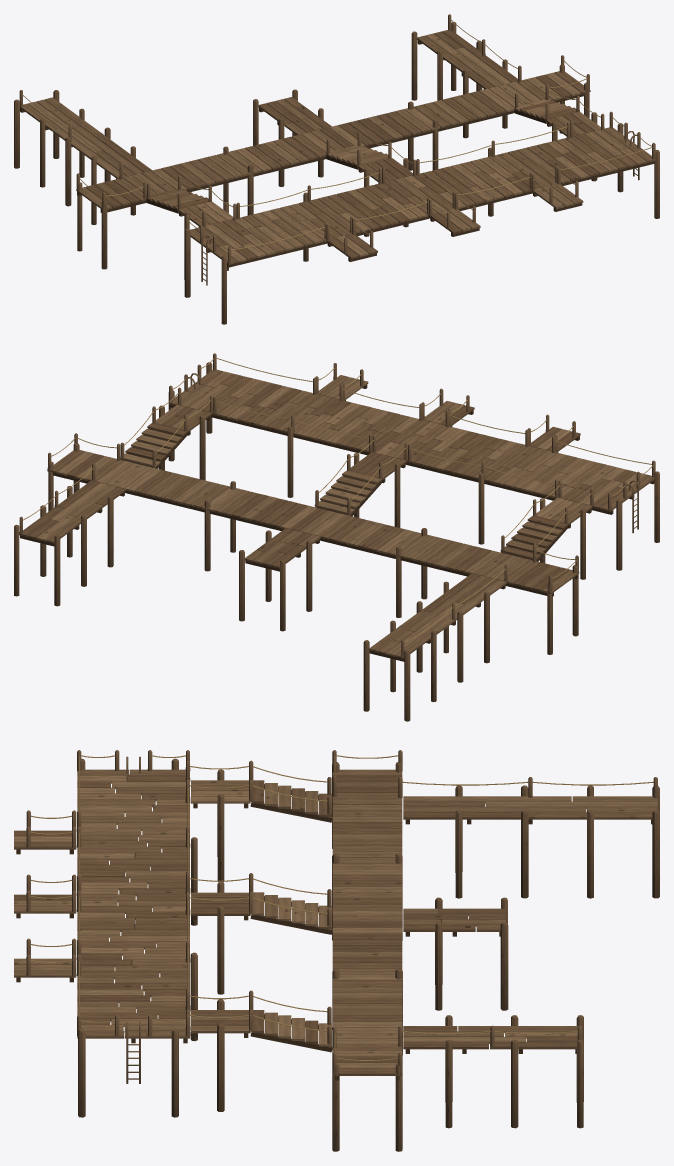
Rendered from jetty.glb.
3 views of the same model, one above another, from view 1: azimuth 30°, elevation 25°; view 2: azimuth 150°, elevation 25°; view 3: azimuth 270°, elevation 25° (orthographic). The views are drawn at different scales.
Parts seen in each view (by area): view 1: jetty; view 2: jetty; view 3: jetty.
Part boxes in pixels (left/top/right/bottom): jetty: left=14, top=14, right=659, bottom=324; jetty: left=14, top=353, right=659, bottom=721; jetty: left=14, top=750, right=659, bottom=1151.
Bounding box in the file's own units: 28.5 × 4.97 × 25.55.
Materials: 3 (3 with a texture image).
